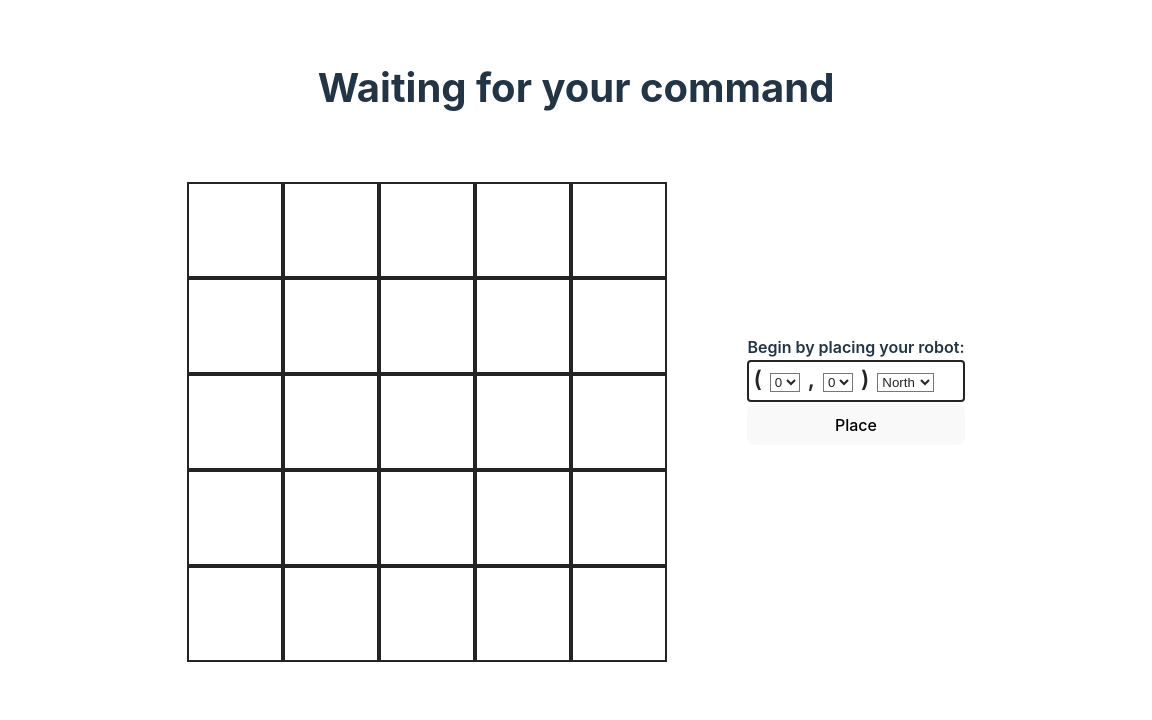
Test case:  › renders when robot is placed on the grid
Step 1. Click the button "Place" → (856, 425), box x1=747 y1=404 x2=964 y2=445
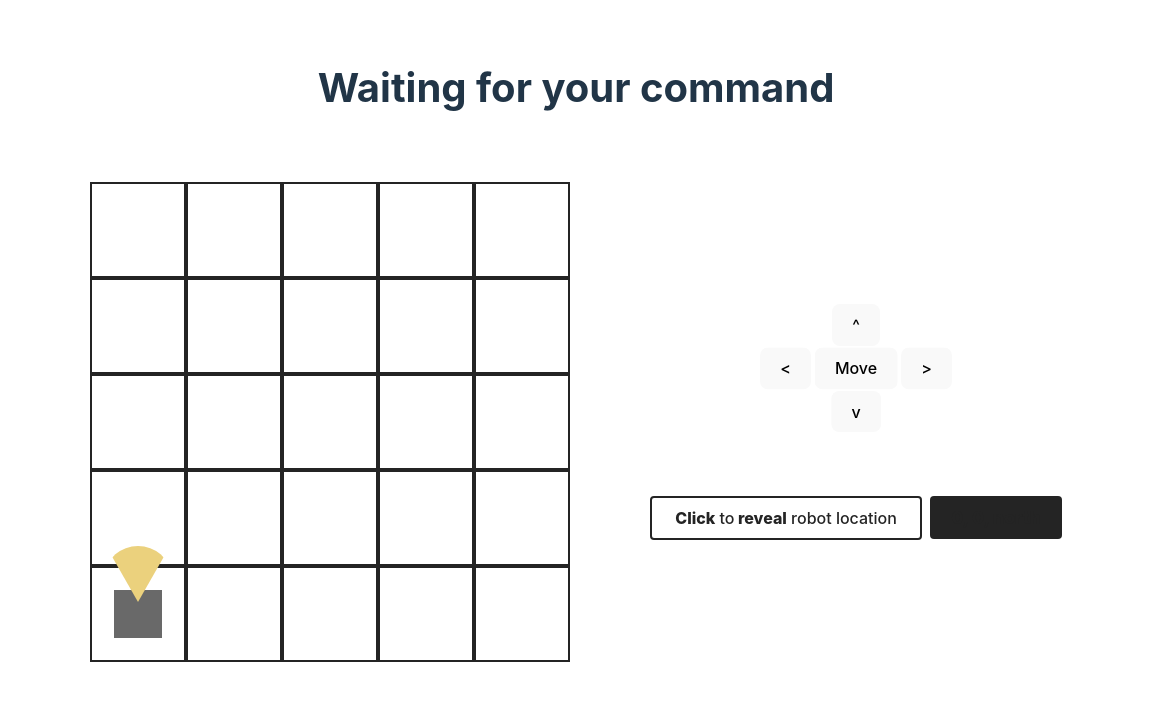
Expected: the element with test id "report-robot-location" is shown, x1=650 y1=496 x2=1062 y2=540
